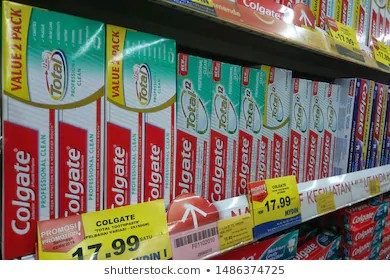colgate-family: (3, 1, 109, 257), (107, 22, 177, 216)
colgate-medium: (176, 53, 212, 212), (239, 66, 271, 195), (213, 60, 241, 201), (266, 66, 291, 180), (307, 80, 331, 183), (291, 76, 313, 187), (325, 83, 345, 176)
